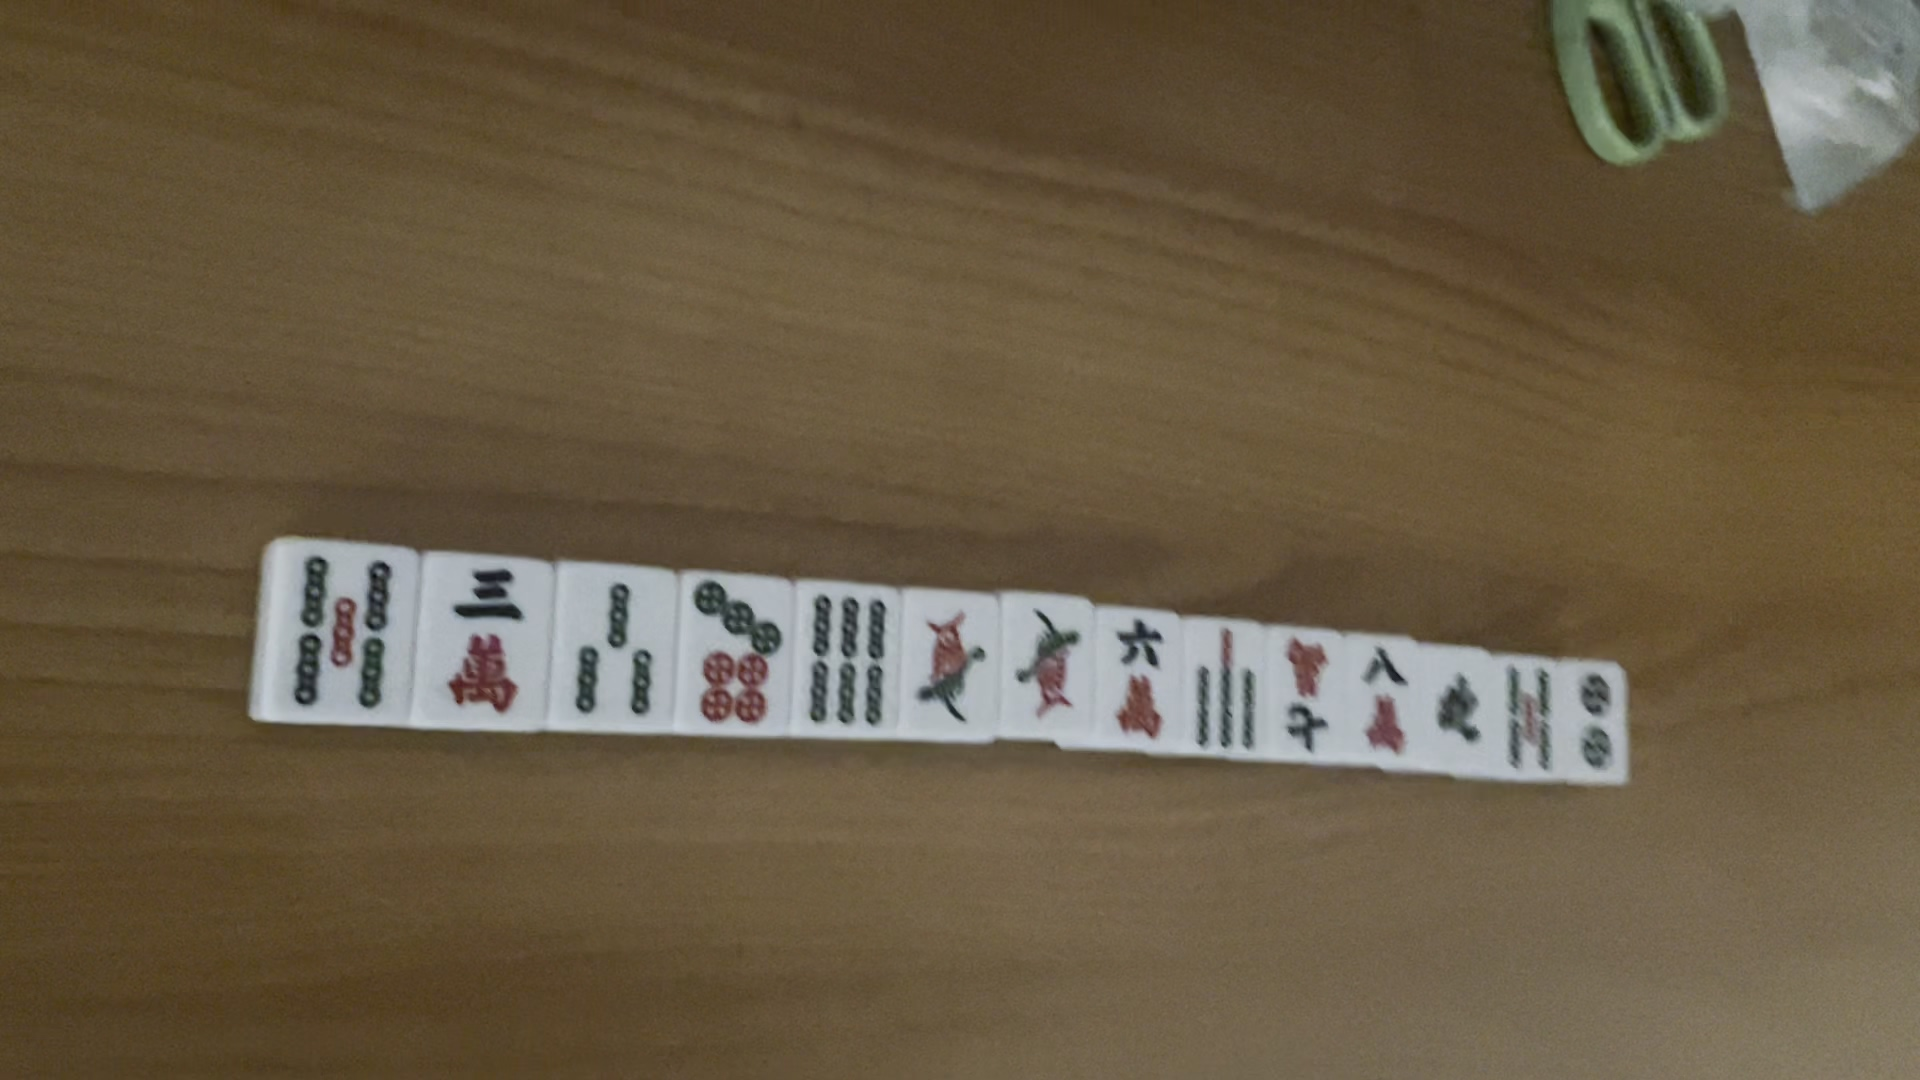b-1: (913, 601, 996, 735), (1007, 599, 1091, 732)
b-3: (571, 576, 662, 717)
b-5: (284, 546, 396, 720), (1501, 662, 1557, 779)
b-6: (804, 589, 891, 731)
b-7: (1189, 624, 1267, 757)
c-3: (439, 556, 527, 721)
c-6: (1109, 612, 1167, 744)
c-7: (1278, 628, 1333, 754)
c-8: (1349, 637, 1416, 760)
d-2: (1571, 666, 1623, 782)
d-7: (691, 575, 789, 733)
honors-north: (1436, 666, 1489, 748)
